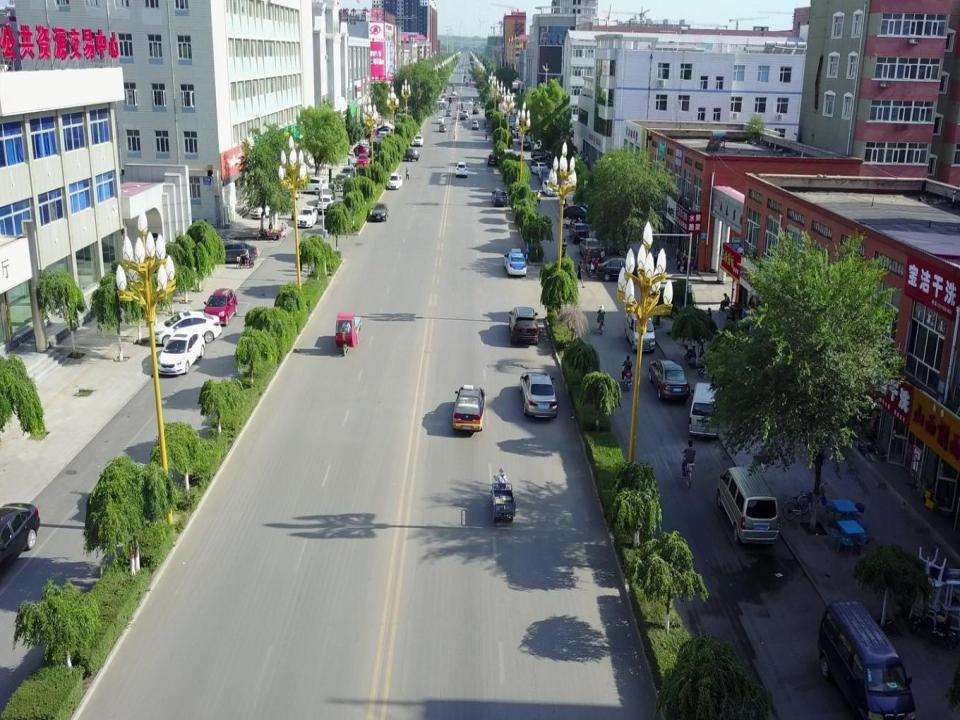car: (152, 308, 221, 349), (0, 503, 43, 562), (156, 334, 207, 378), (520, 371, 558, 421), (453, 384, 489, 436), (648, 356, 688, 402), (206, 288, 236, 329), (508, 306, 542, 342), (592, 258, 643, 279), (207, 242, 260, 261), (246, 190, 278, 218), (503, 248, 527, 276), (559, 206, 595, 224), (680, 450, 696, 488), (596, 236, 627, 255), (579, 237, 602, 260), (294, 177, 327, 193), (296, 205, 317, 229), (568, 223, 589, 243), (492, 187, 509, 209), (372, 203, 390, 223), (386, 170, 402, 191), (541, 180, 560, 196), (317, 194, 331, 214), (333, 171, 347, 191), (354, 144, 374, 158), (454, 160, 468, 179), (530, 148, 552, 159), (530, 161, 547, 174), (533, 152, 555, 161), (540, 168, 552, 184), (341, 166, 354, 180), (487, 152, 498, 166), (357, 154, 368, 166), (413, 134, 423, 146), (560, 244, 568, 257), (521, 140, 531, 150), (461, 99, 474, 106), (430, 98, 445, 104), (471, 119, 479, 130), (438, 123, 446, 133), (514, 127, 522, 137), (518, 135, 526, 144), (472, 106, 479, 114), (445, 110, 452, 117), (451, 88, 457, 96), (510, 120, 516, 128), (449, 96, 454, 103), (460, 113, 465, 119)
van: (816, 600, 916, 720), (719, 467, 782, 545), (690, 383, 723, 438), (624, 307, 656, 355), (400, 149, 420, 162)
